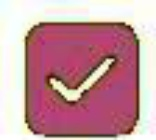CheckBox: (1, 1, 155, 139)
